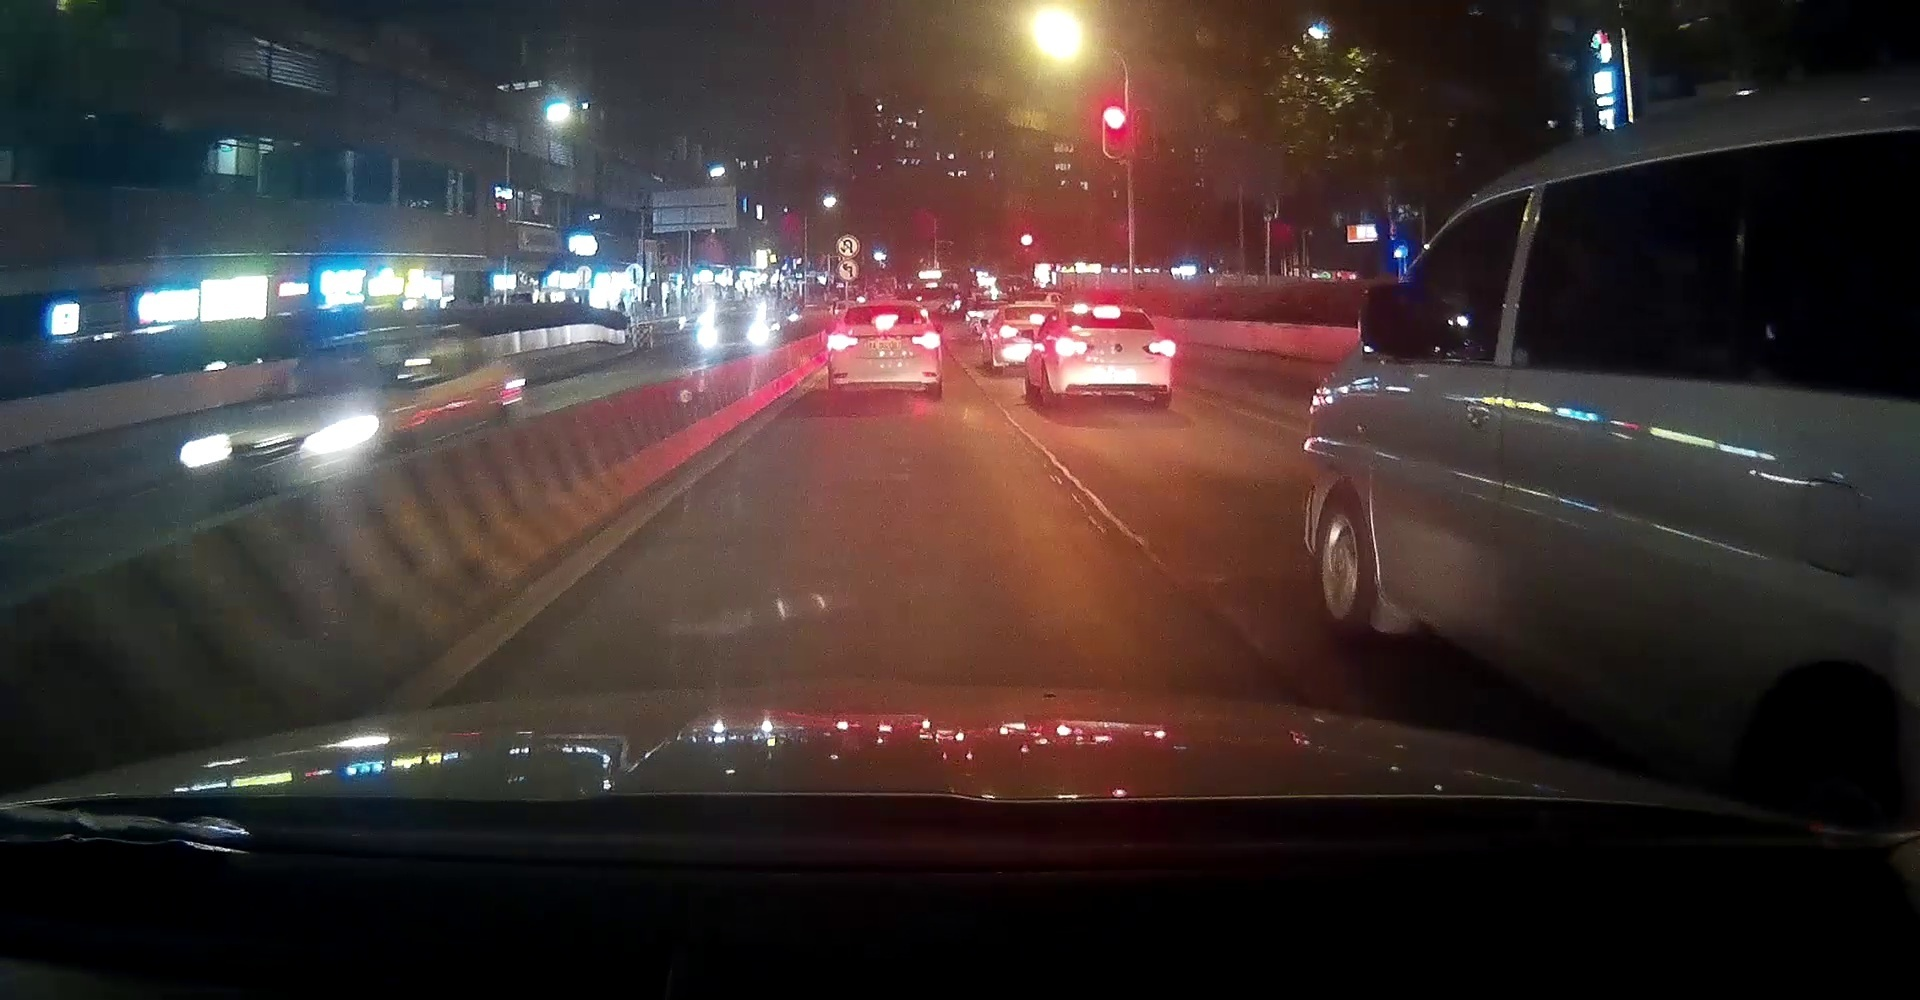L_light: (1057, 341, 1093, 352), (830, 335, 857, 346)
R_light: (1142, 341, 1170, 355), (912, 334, 938, 345)
T_light: (872, 319, 897, 325), (1095, 310, 1121, 315)
night-brake: (1051, 305, 1172, 410), (827, 301, 943, 401)
